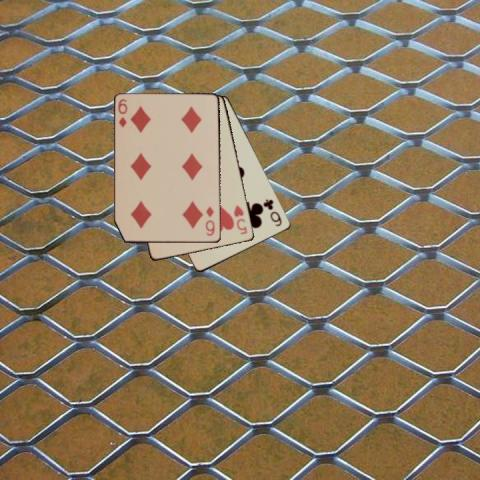5h: (231, 202, 249, 236)
6c: (261, 196, 283, 228)
6d: (115, 96, 129, 129), (203, 204, 216, 237)
